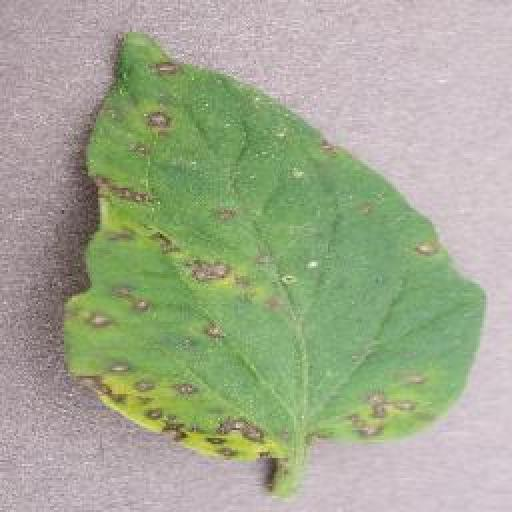disease_tomato: (61, 32, 488, 464)
